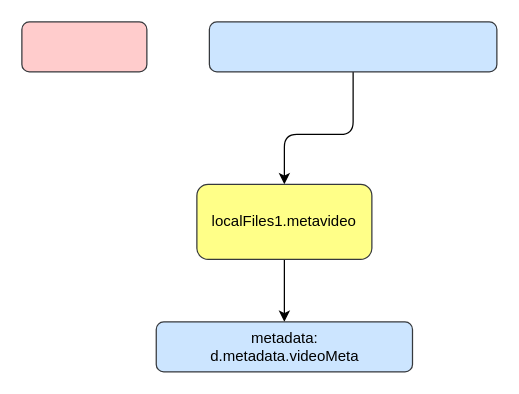
The diagram is 519 pixels wide and 394 high, and some of its shapes have lost their labels. The shapes that lost their labels are listed below. From the top down, each one's centre as x and y in pixels, then its label:
At pixel 84 46: "type:flux".
At pixel 352 46: "source: d.state.sources.myvideo.image".
